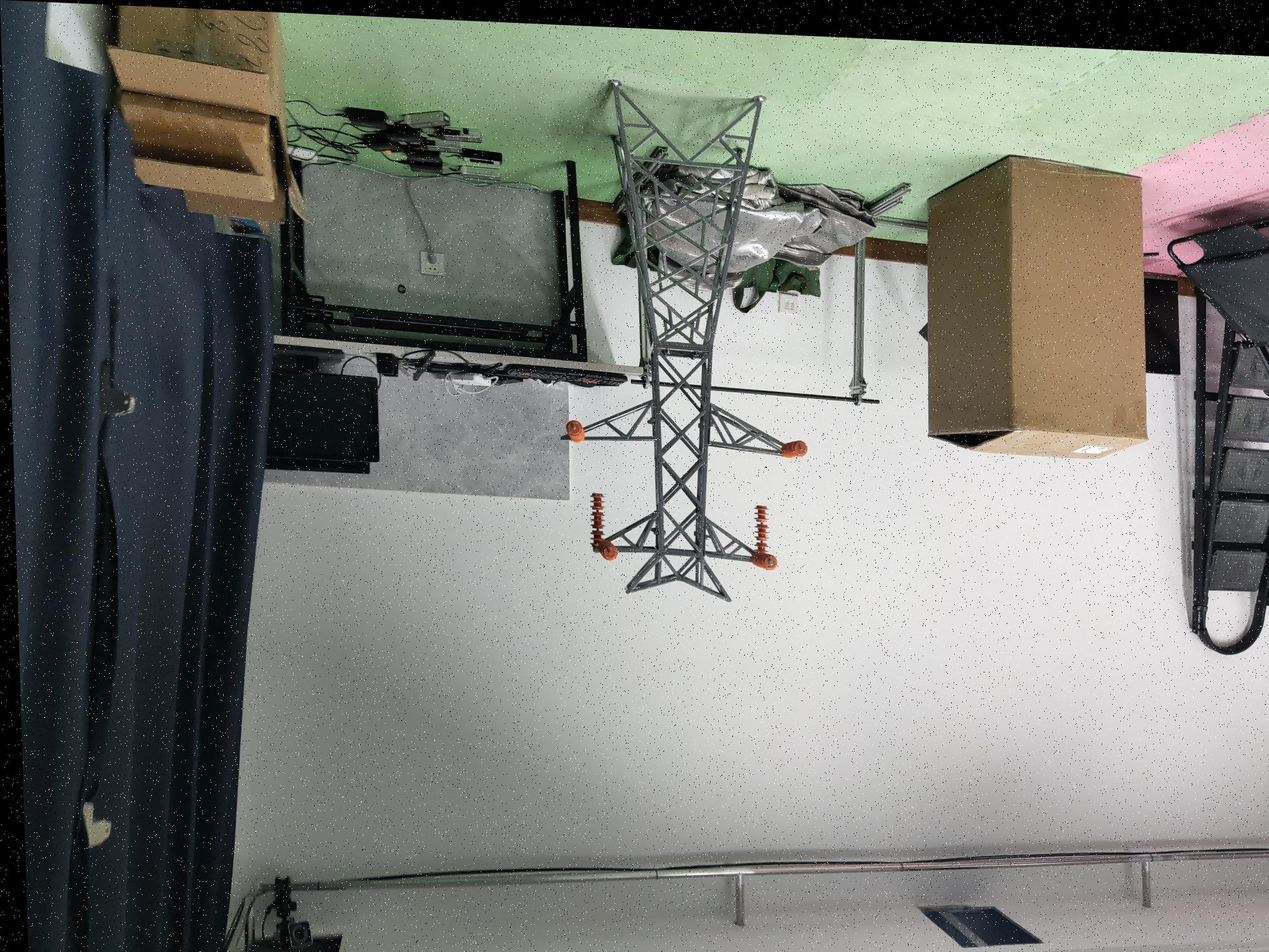tower: (562, 76, 802, 607)
